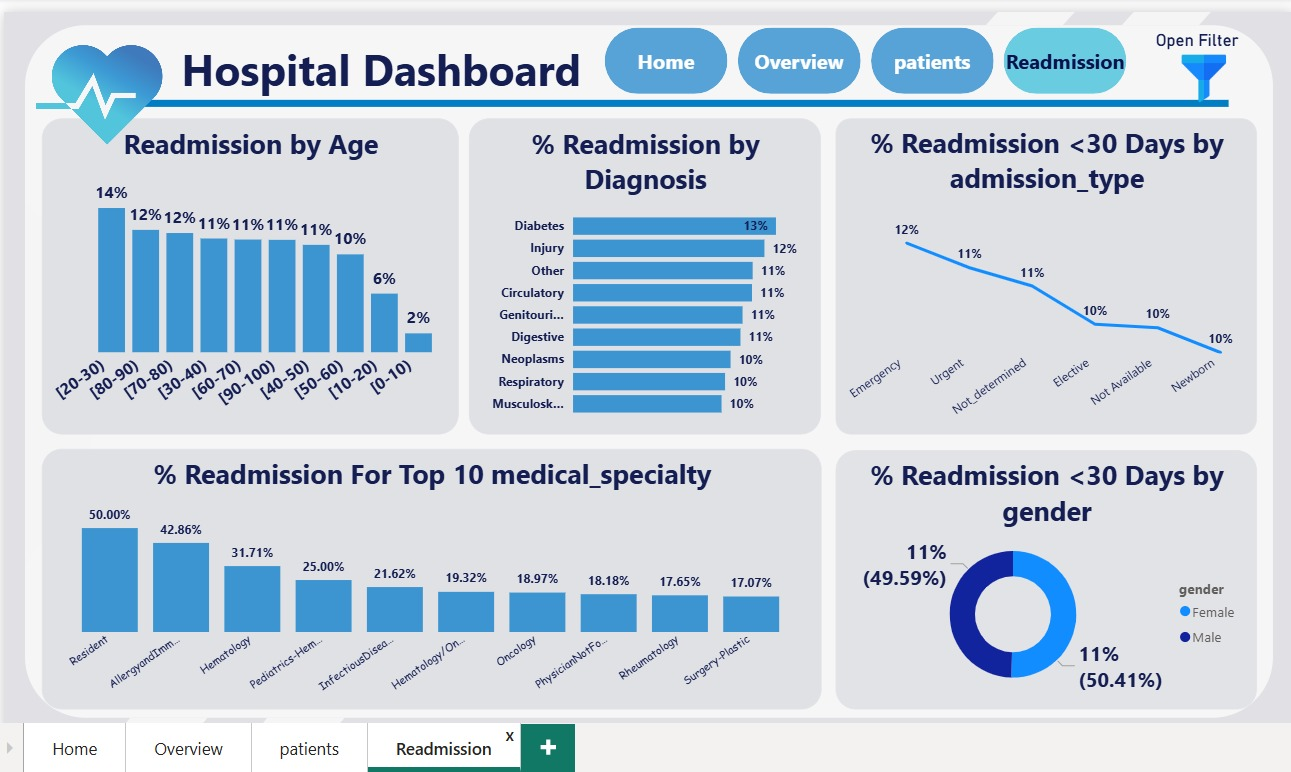

The page's visual inventory and layout, read from the dashboard file:
{"tool":"powerbi","page":{"name":"Readmission ","canvas":[1280,720],"ordinal":3},"visuals":[{"type":"donutChart","fields":{"Category":["data.gender"],"Y":["Data Measure.% Readmission <30 Days"]},"box":[825.7,434.5,418.1,256.8],"z":0},{"type":"columnChart","title":"Readmission  by Age","fields":{"Y":["Data Measure.% Readmission <30 Days"],"Category":["data.age"]},"box":[37.3,106,413.6,313.5],"z":1000},{"type":"columnChart","title":"% Readmission  For Top 10 medical_specialty","fields":{"Y":["Data Measure.% Readmission <30 Days"],"Category":["data.medical_specialty"]},"box":[37.3,433,773.4,258.3],"z":2000},{"type":"image","box":[18.1,22.2,152.8,119.5],"z":3000},{"type":"lineChart","fields":{"Category":["data.admission_type"],"Y":["Data Measure.% Readmission <30 Days"]},"box":[825.7,106,418.1,313.5],"z":4000},{"type":"clusteredBarChart","title":"% Readmission  by Diagnosis ","fields":{"Category":["data.Diagnosis Category"],"Y":["Data Measure.% Readmission <30 Days"]},"box":[461.4,106,349.4,313.5],"z":5000},{"type":"textbox","box":[170.2,22.4,425.5,71.7],"z":6000},{"type":"pageNavigator","box":[596.2,14.6,519.9,66.6],"z":6001},{"type":"image","title":"Open Filter","box":[1137.3,17.9,105.6,76.4],"z":6002}]}

Visuals, with their boxes on the page's 1280x720 design canvas (x1, y1, x2, y2). These are canvas units, not pixel positions in the 1291x772 screenshot, which may show the page scaled, cropped or inside an application window:
donutChart - data.gender x Data Measure.% Readmission <30 Days: detection(826, 434, 1244, 691)
"Readmission  by Age" columnChart: detection(37, 106, 451, 420)
"% Readmission  For Top 10 medical_specialty" columnChart: detection(37, 433, 811, 691)
image: detection(18, 22, 171, 142)
lineChart - data.admission_type x Data Measure.% Readmission <30 Days: detection(826, 106, 1244, 420)
"% Readmission  by Diagnosis " clusteredBarChart: detection(461, 106, 811, 420)
textbox: detection(170, 22, 596, 94)
pageNavigator: detection(596, 15, 1116, 81)
"Open Filter" image: detection(1137, 18, 1243, 94)
